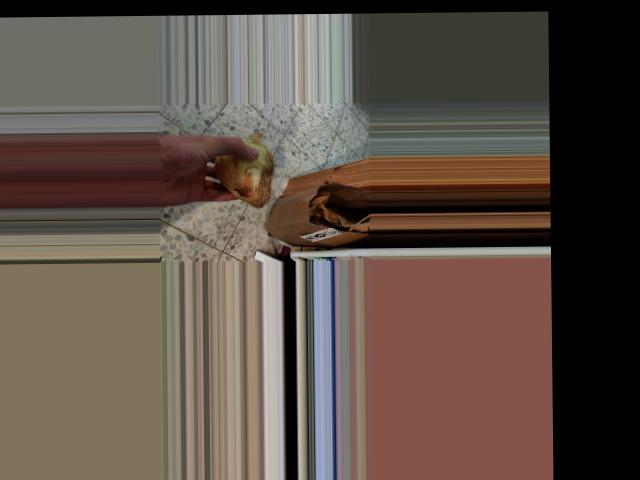onion: (207, 135, 283, 208)
